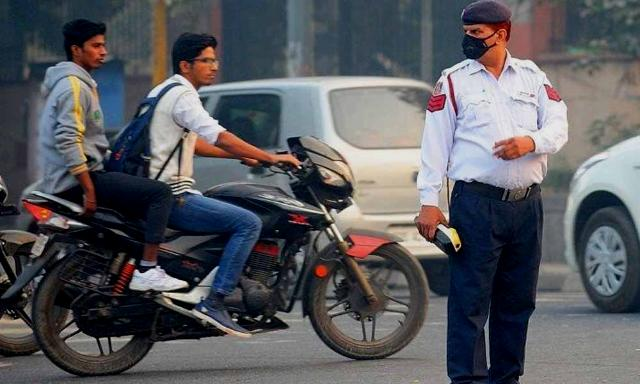motorcycle: (13, 15, 427, 383)
withoutHelmet: (166, 31, 224, 87), (54, 19, 110, 70)
